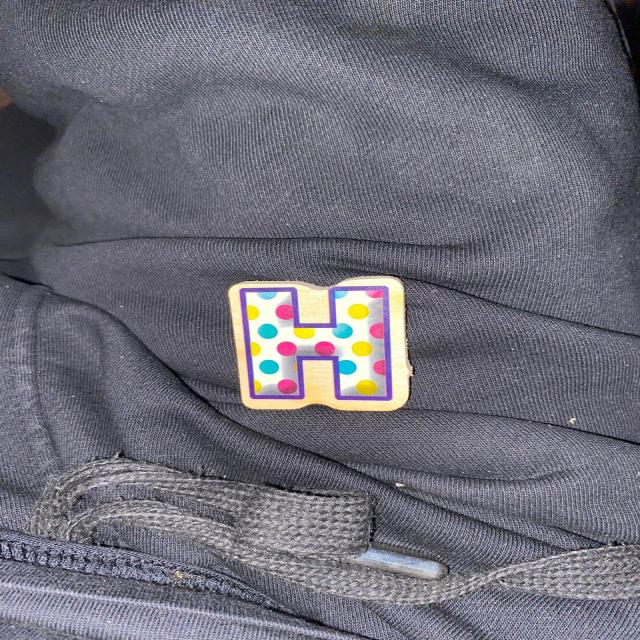H: (229, 276, 411, 411)
